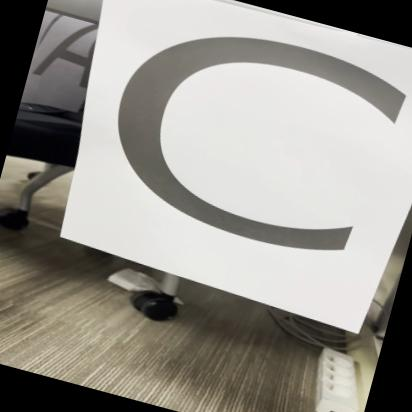seat: (30, 0, 412, 369)
